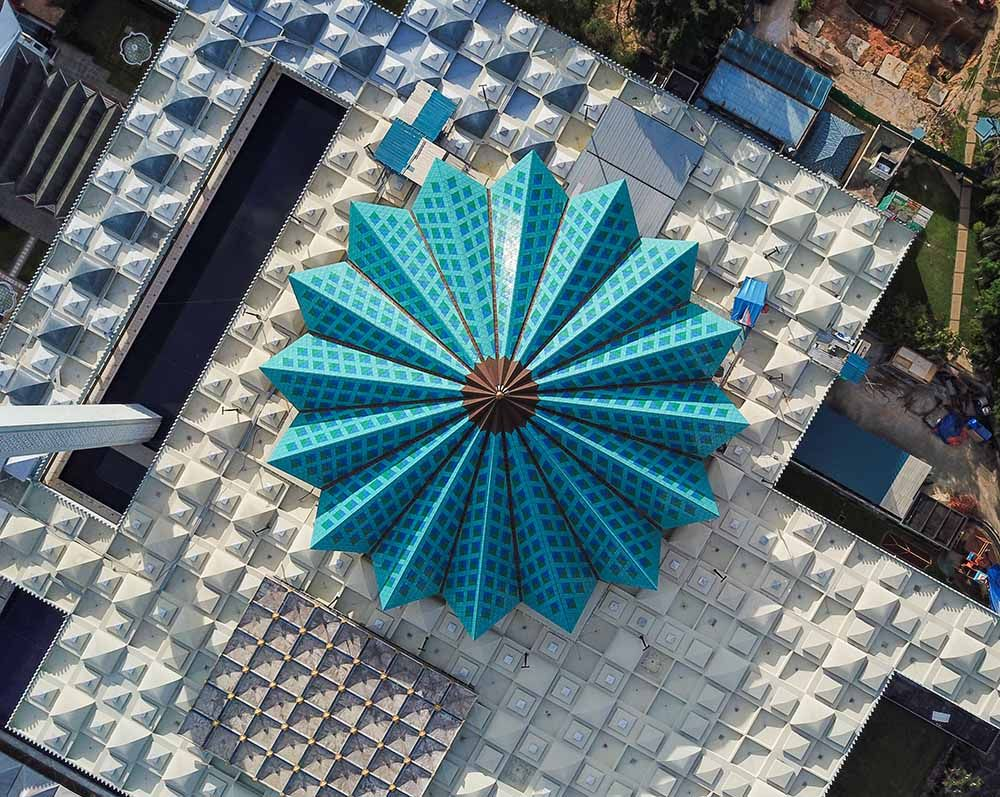Mosque: (286, 165, 721, 605)
